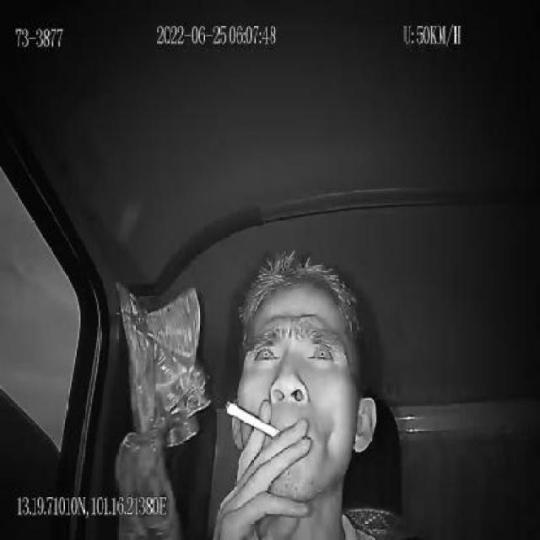smoking: (225, 397, 283, 442)
